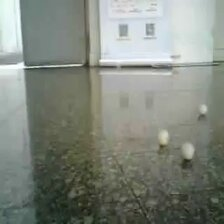w: (179, 142, 195, 160), (158, 130, 171, 144), (198, 103, 207, 114)
